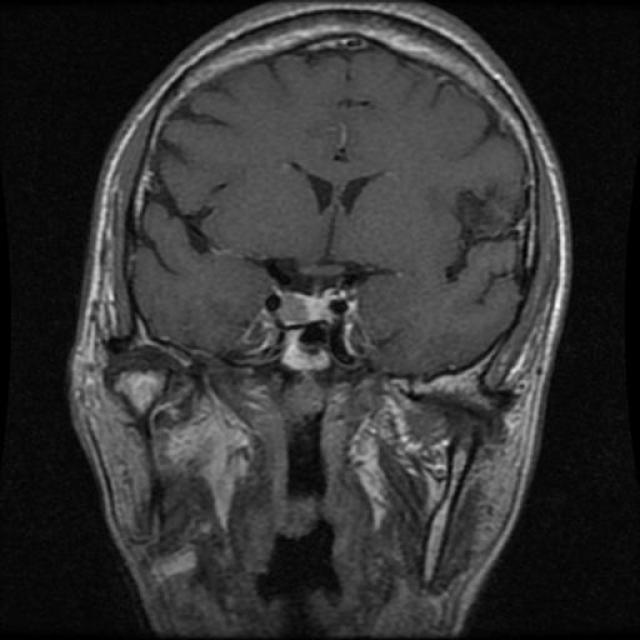pituitary: (248, 239, 389, 377)
